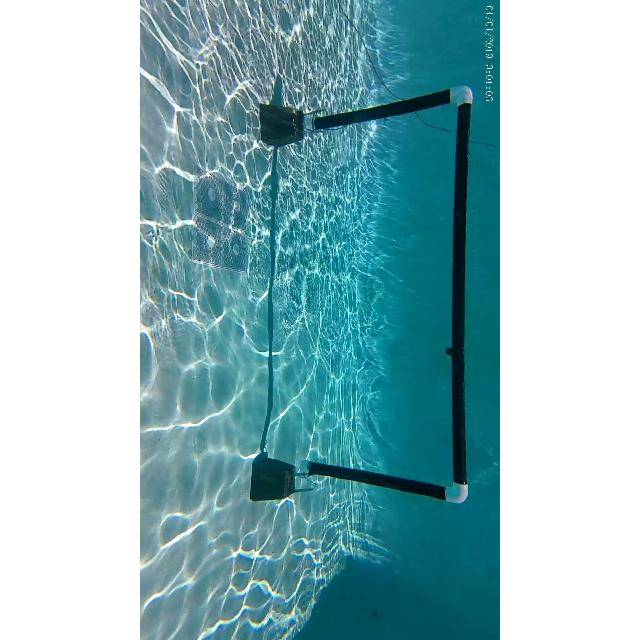prequal gate: (299, 85, 473, 503)
prequal gate leg l: (262, 81, 472, 143)
prequal gate leg r: (247, 444, 477, 516)
